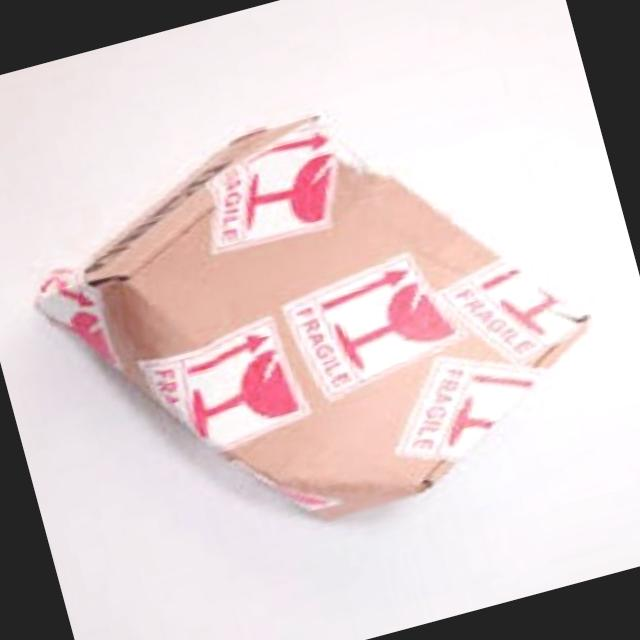box: (3, 46, 640, 587)
